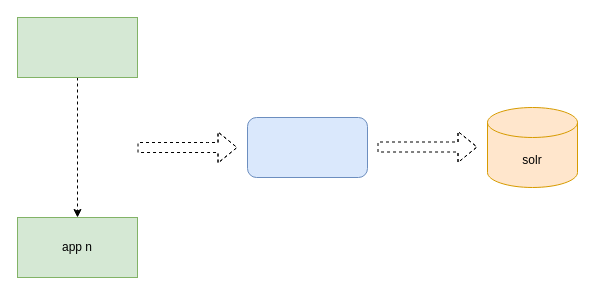
Image size: 595x295. Some labels were removed from this diagram. Here are the shapes that lost their labels. From the top down, the box of each, then its label:
(16, 16, 138, 78): app 1
(246, 116, 368, 178): data
